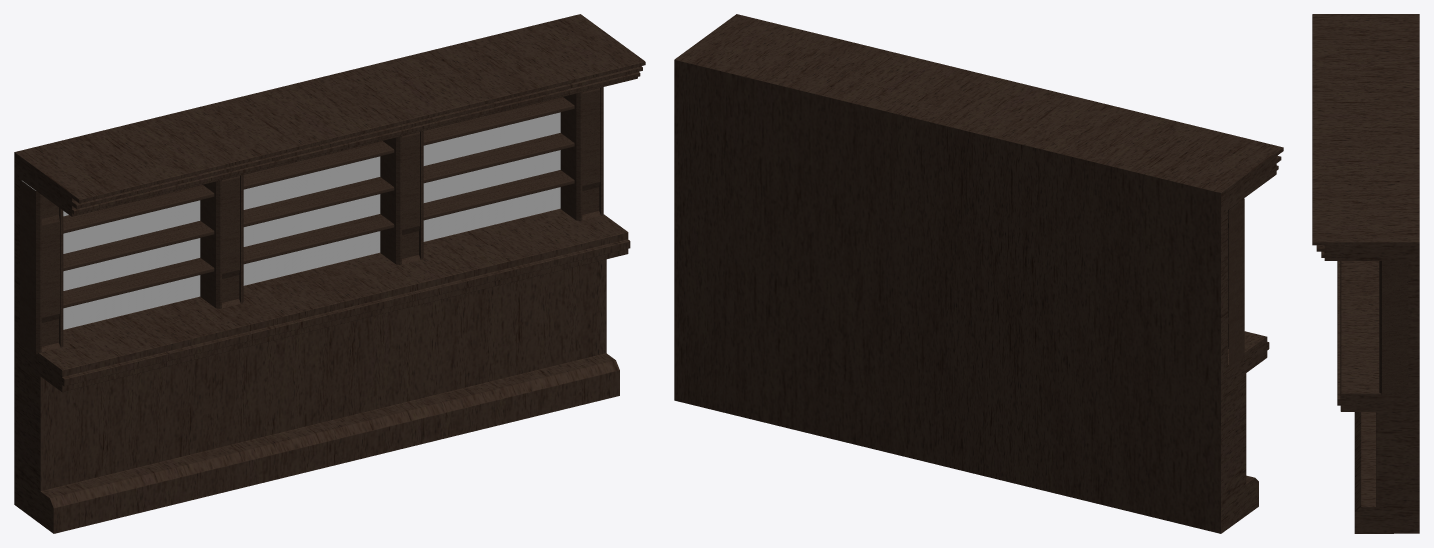
The model's file is MuebleBar.fbx.
3 views of the same model, side by side, from view 1: azimuth 30°, elevation 25°; view 2: azimuth 150°, elevation 25°; view 3: azimuth 270°, elevation 25° (orthographic). The views are drawn at different scales.
Visible parts, largest first — view 1: Mueble, Pared; view 2: Mueble; view 3: Mueble.
Boxes of the visible parts, x1,y1,x2,y2 form: Mueble: (14,14,645,533); Pared: (22,112,560,329); Mueble: (674,14,1283,533); Mueble: (1312,14,1419,533).
Bounding box in the file's own units: 2315 × 1375 × 458.
